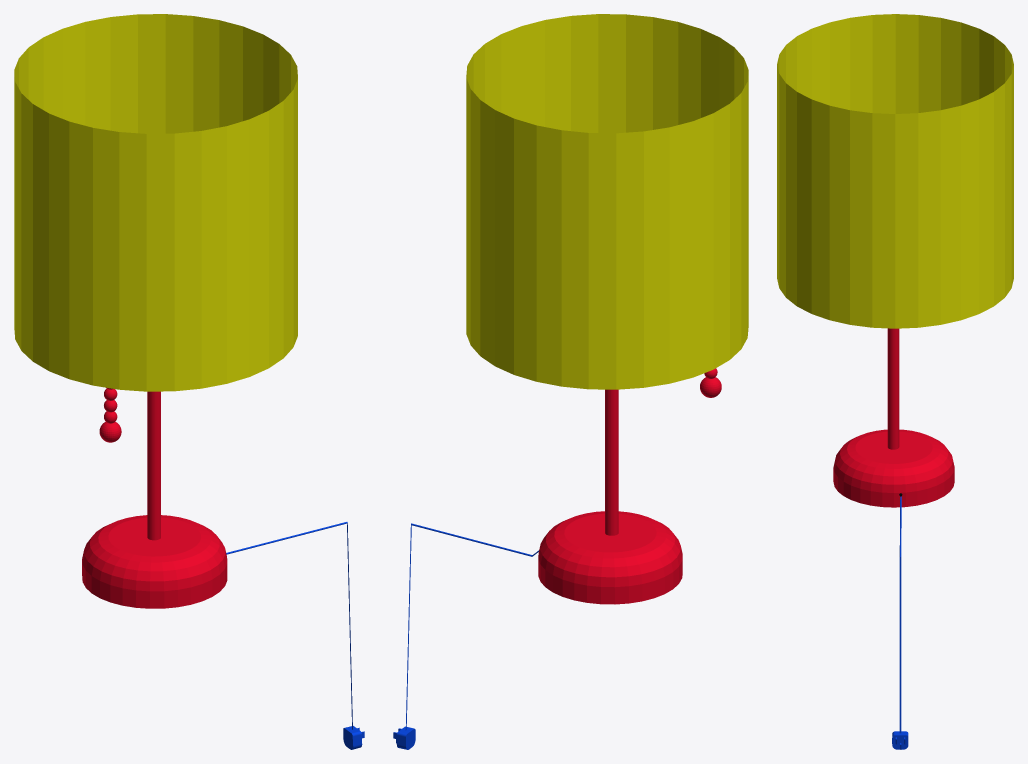
Rendered from Bedside_Lamp.fbx.
3 renders of one model, left to right at view 1: azimuth 30°, elevation 25°; view 2: azimuth 150°, elevation 25°; view 3: azimuth 270°, elevation 25°, orthographic. The views are drawn at different scales.
Parts seen in each view (by area): view 1: Bedside_Lamp; view 2: Bedside_Lamp; view 3: Bedside_Lamp.
Boxes of the visible parts, x1=… form: Bedside_Lamp: x1=14, y1=14, x2=364, y2=749; Bedside_Lamp: x1=393, y1=14, x2=748, y2=749; Bedside_Lamp: x1=777, y1=14, x2=1013, y2=749.
Size of the model in its own units: 270 by 562 by 200.
